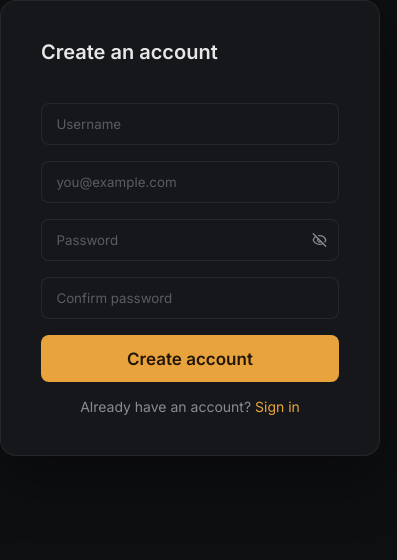
Test: RegisterForm › shows an error message on failed registration
Type "alice" into the field with placeholder "Username" at (190, 124), box [41,103,339,145]
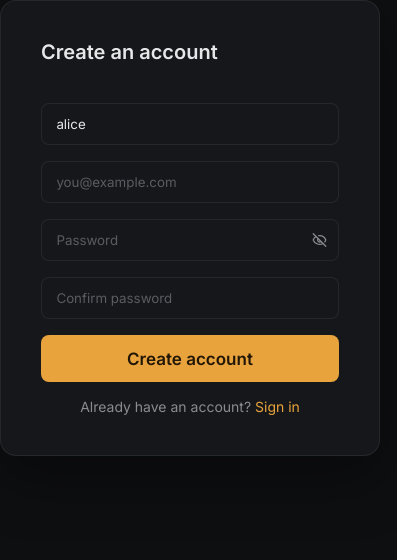
Type "alice@example.com" into the field with placeholder "you@example.com" at (190, 182), box [41,161,339,203]
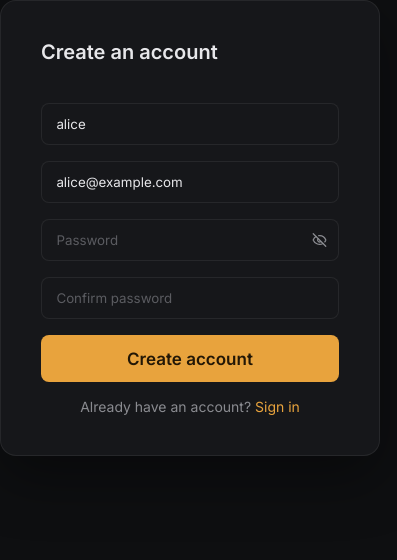
Type "Password123!" into the password field with placeholder "Password" at (190, 240), box [41,219,339,261]
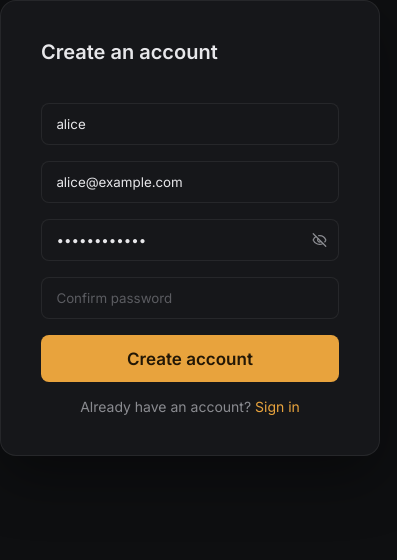
Type "Password123!" into the password field with placeholder "Confirm password" at (190, 298), box [41,277,339,319]
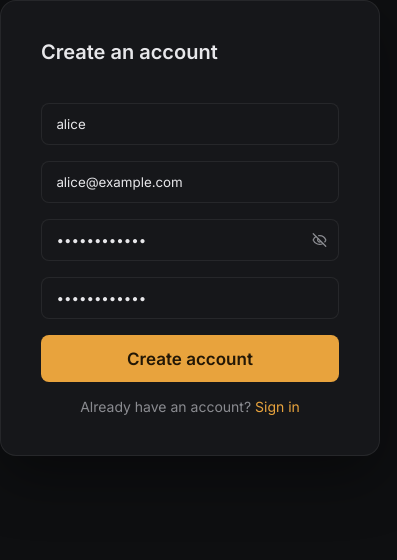
Submit the form, box [41,41,339,415]
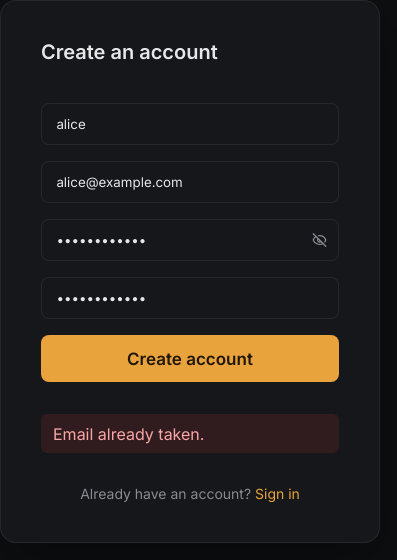
Check: the message "Email already taken." is shown, box [41,414,339,453]
